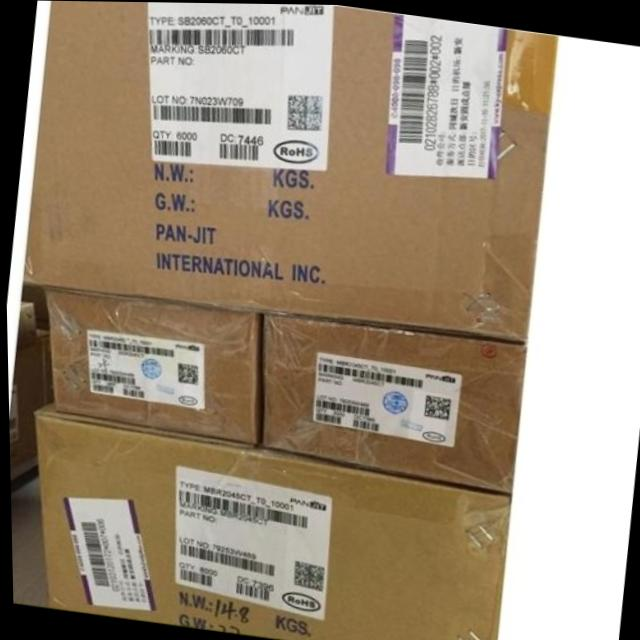box: (22, 1, 558, 340), (32, 402, 509, 640), (260, 312, 525, 491), (40, 285, 262, 443), (7, 329, 52, 480), (19, 281, 46, 319), (14, 301, 34, 348), (32, 318, 47, 331)
